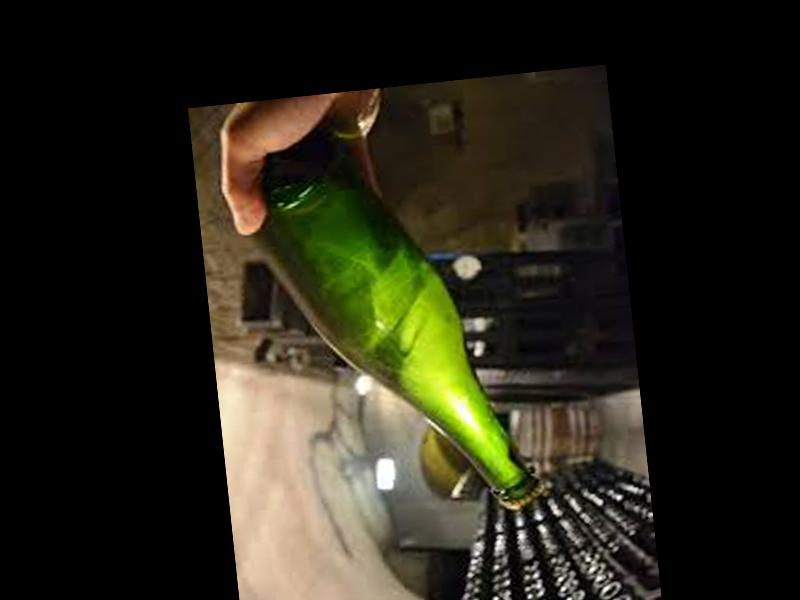Beer: (231, 113, 550, 536)
